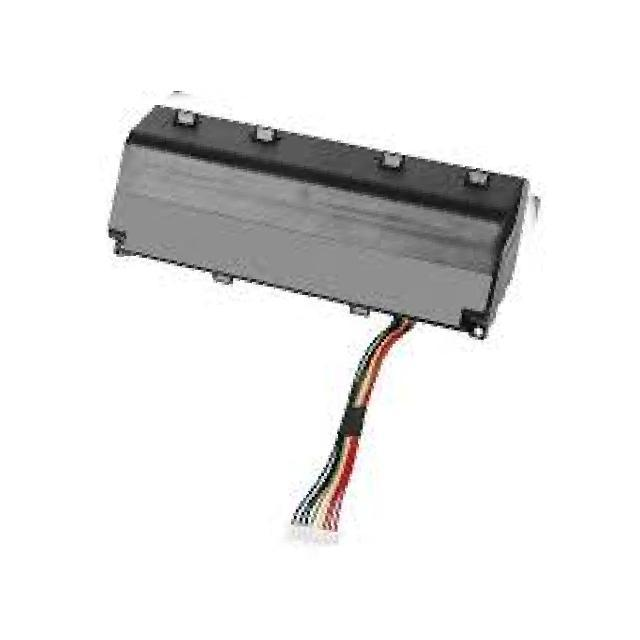Battery: (59, 89, 624, 550)
